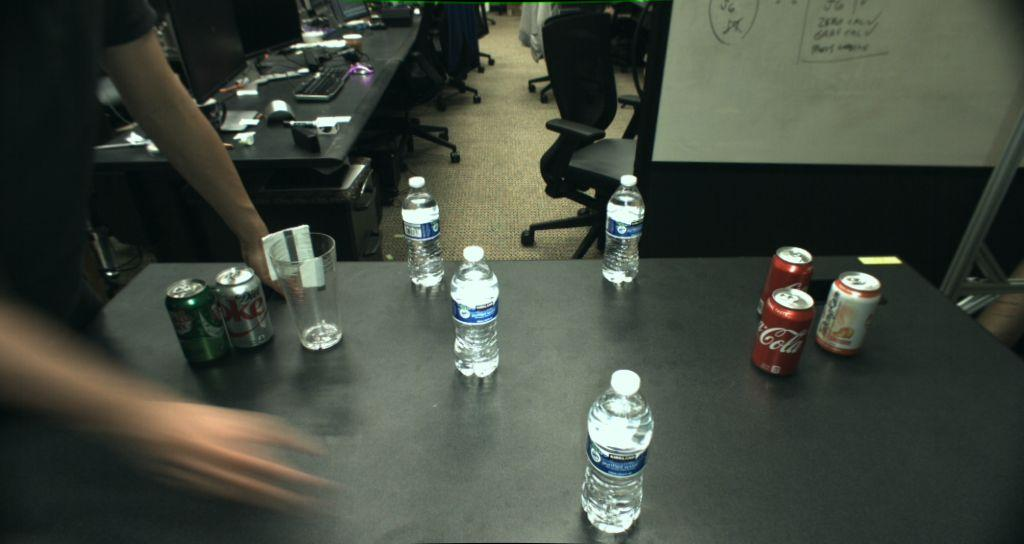can_coke: (752, 288, 815, 379)
can_diet_coke: (212, 266, 273, 350)
can_ginger_ale: (165, 277, 231, 367)
can_talking_rain_peach_nectarine: (816, 269, 882, 356)
water_bottle: (580, 369, 654, 534), (449, 245, 500, 377), (401, 176, 444, 287), (601, 174, 644, 283)
